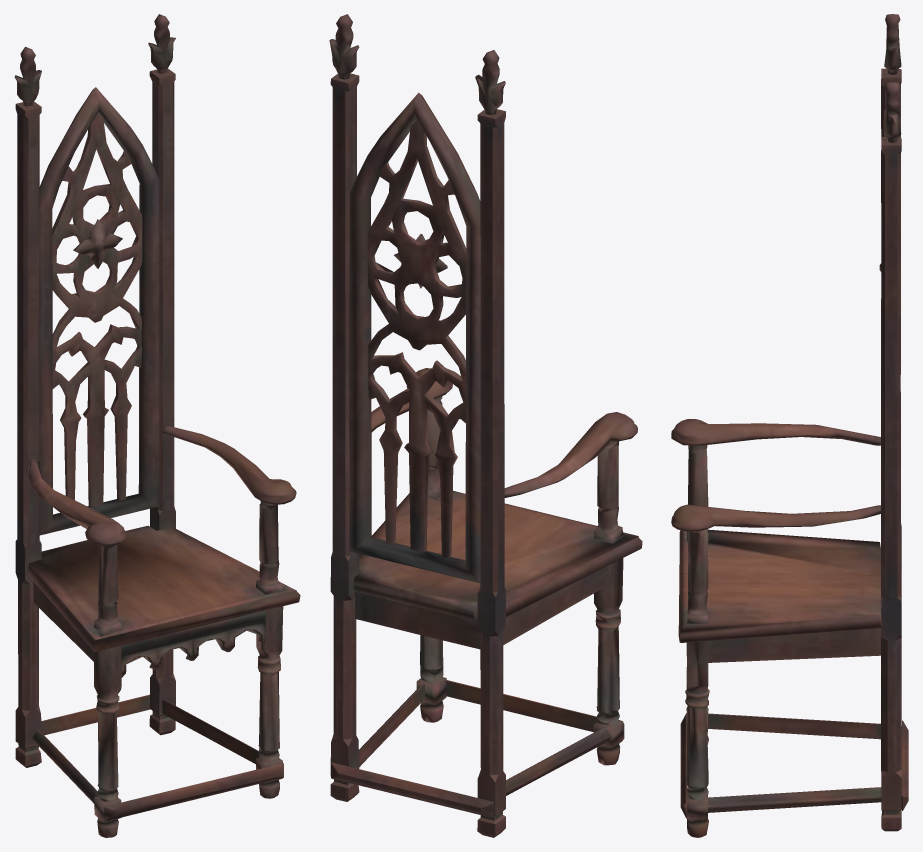
The model's file is chair.glb.
3 renders of one model, left to right at view 1: azimuth 30°, elevation 25°; view 2: azimuth 150°, elevation 25°; view 3: azimuth 270°, elevation 25°, orthographic. The views are drawn at different scales.
Parts seen in each view (by area): view 1: WoodenChair_01; view 2: WoodenChair_01; view 3: WoodenChair_01.
Part boxes in pixels (left/top/right/bottom): WoodenChair_01: left=14, top=14, right=300, bottom=837; WoodenChair_01: left=329, top=14, right=642, bottom=837; WoodenChair_01: left=671, top=14, right=908, bottom=837.
Size of the model in its own units: 0.6872 by 2.27 by 0.6555.
1 material, 1 textured.
